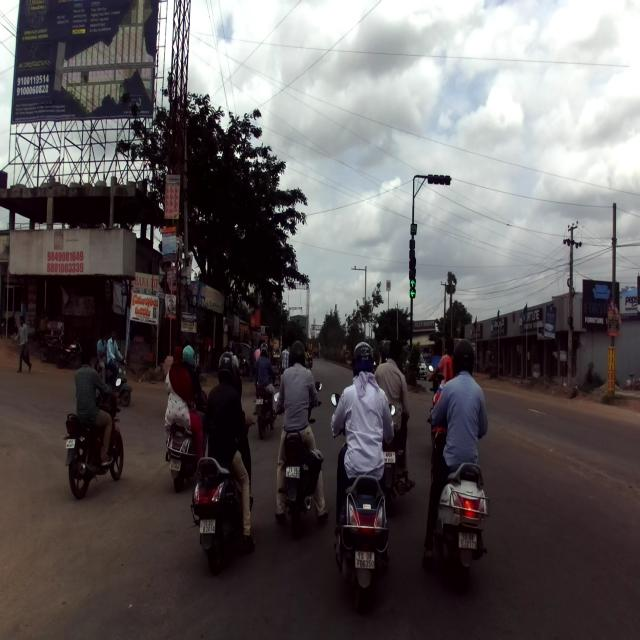motorcycle_Hero: (272, 380, 324, 538), (61, 376, 124, 497)
scooter: (330, 392, 396, 610), (426, 416, 492, 592), (190, 409, 256, 574), (164, 389, 209, 493)
